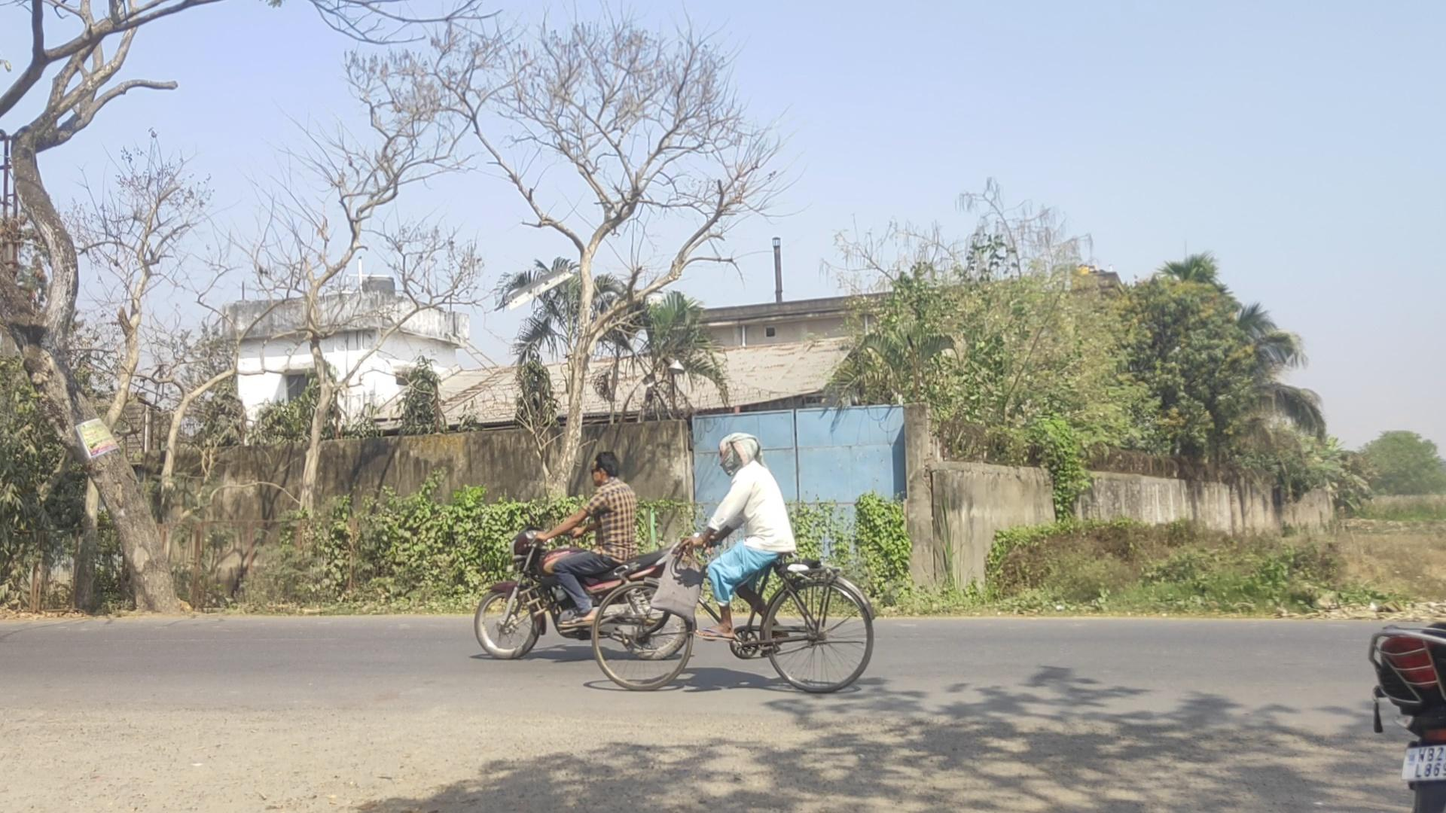bike: (592, 434, 876, 695), (474, 451, 696, 661)
